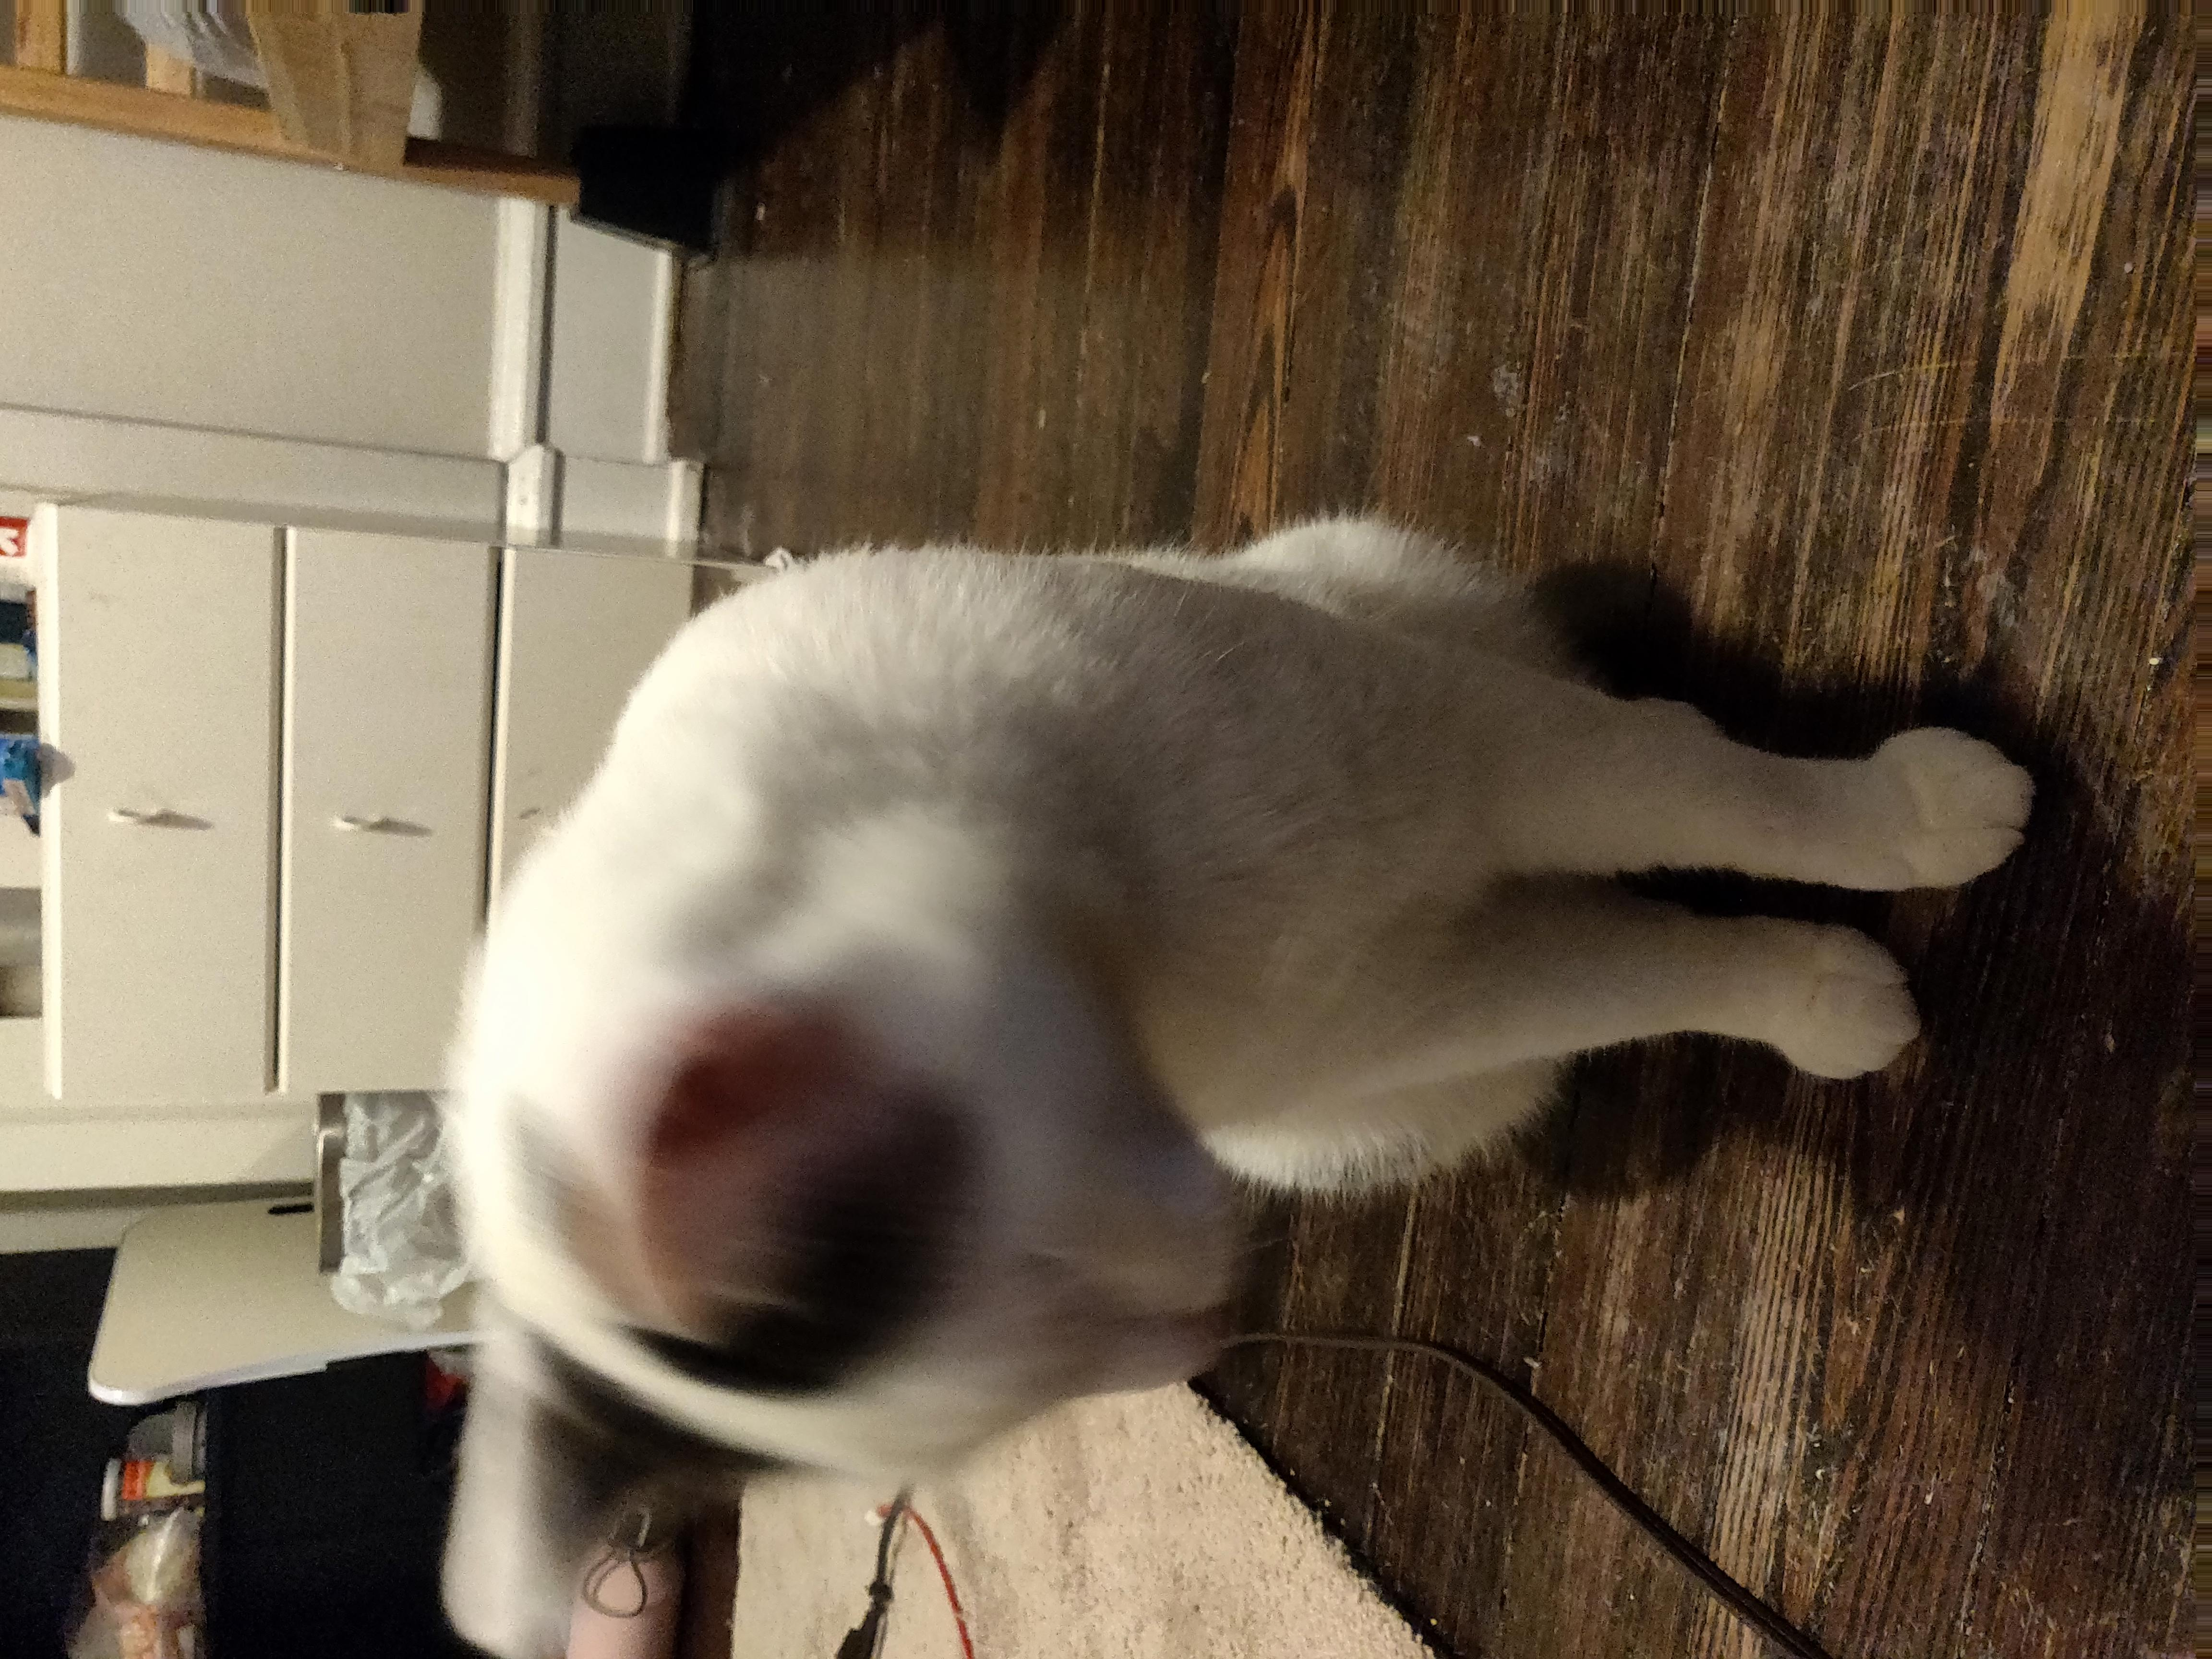cat: (445, 526, 2016, 1657)
